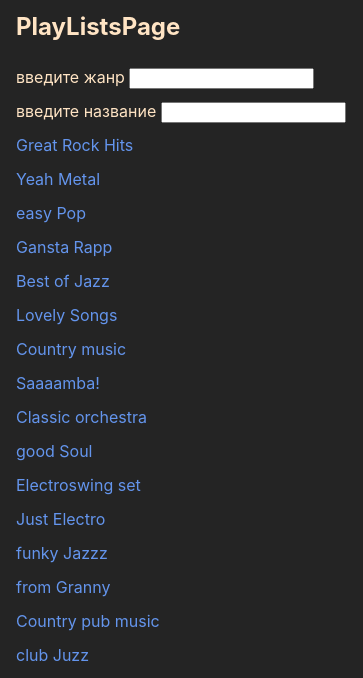
Test: Тест компонента PlayListsPage › Тест, проверяющий вызов метода setSearchParam из react-router-dom при вводе жанра и названия
Type "electronic" into the field labelled "введите жанр". click: (222, 78)
box: 129,68 -> 314,89
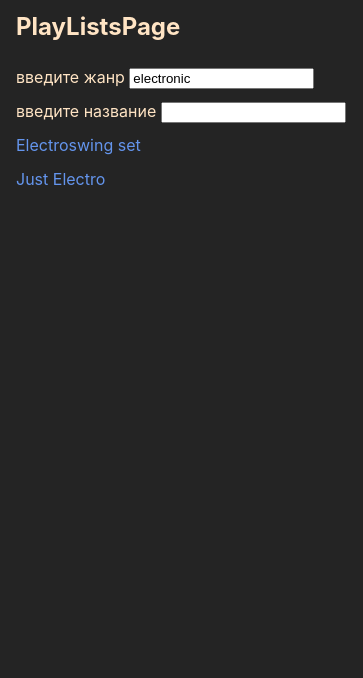
Type "just" into the field labelled "введите название". click: (253, 112)
box: 161,102 -> 346,123
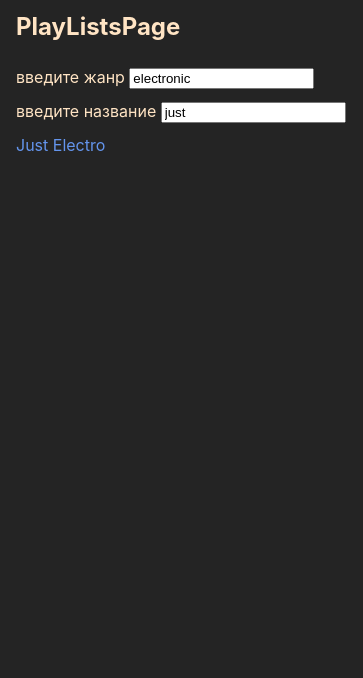
Now the number of links with test id "PlayList" is 1, box 16,135 -> 105,155
